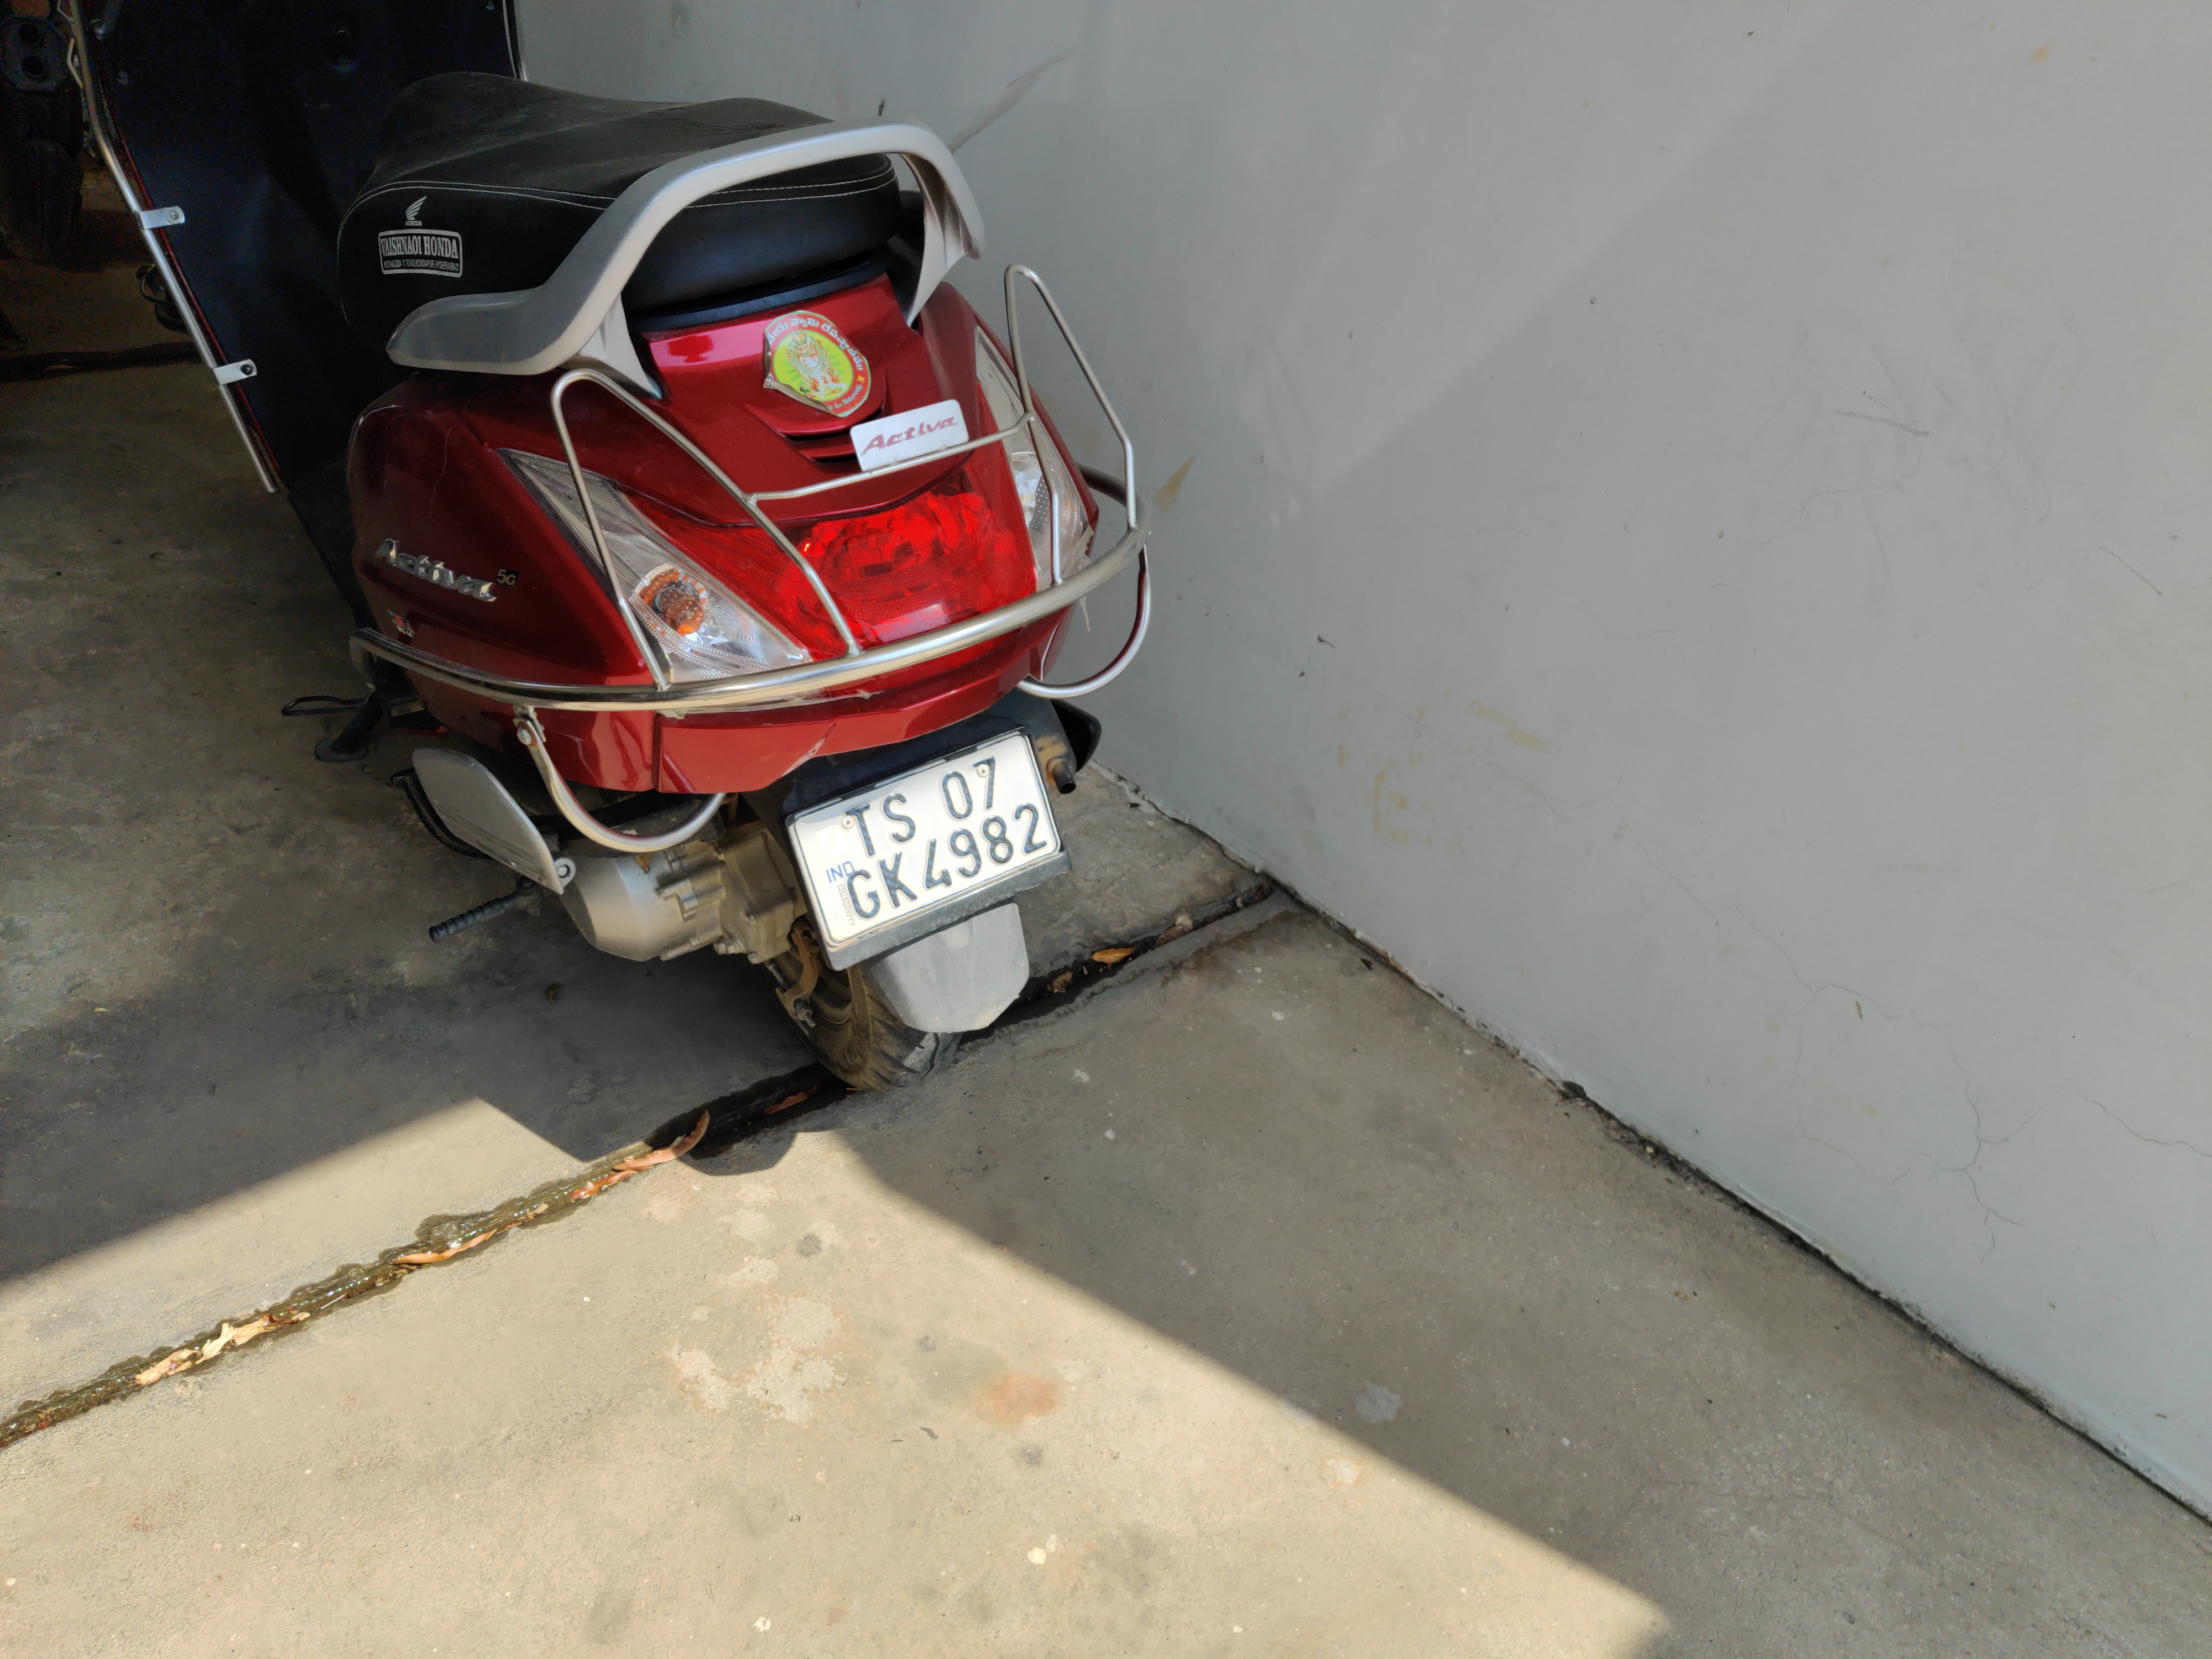plate: (753, 738, 1076, 954)
